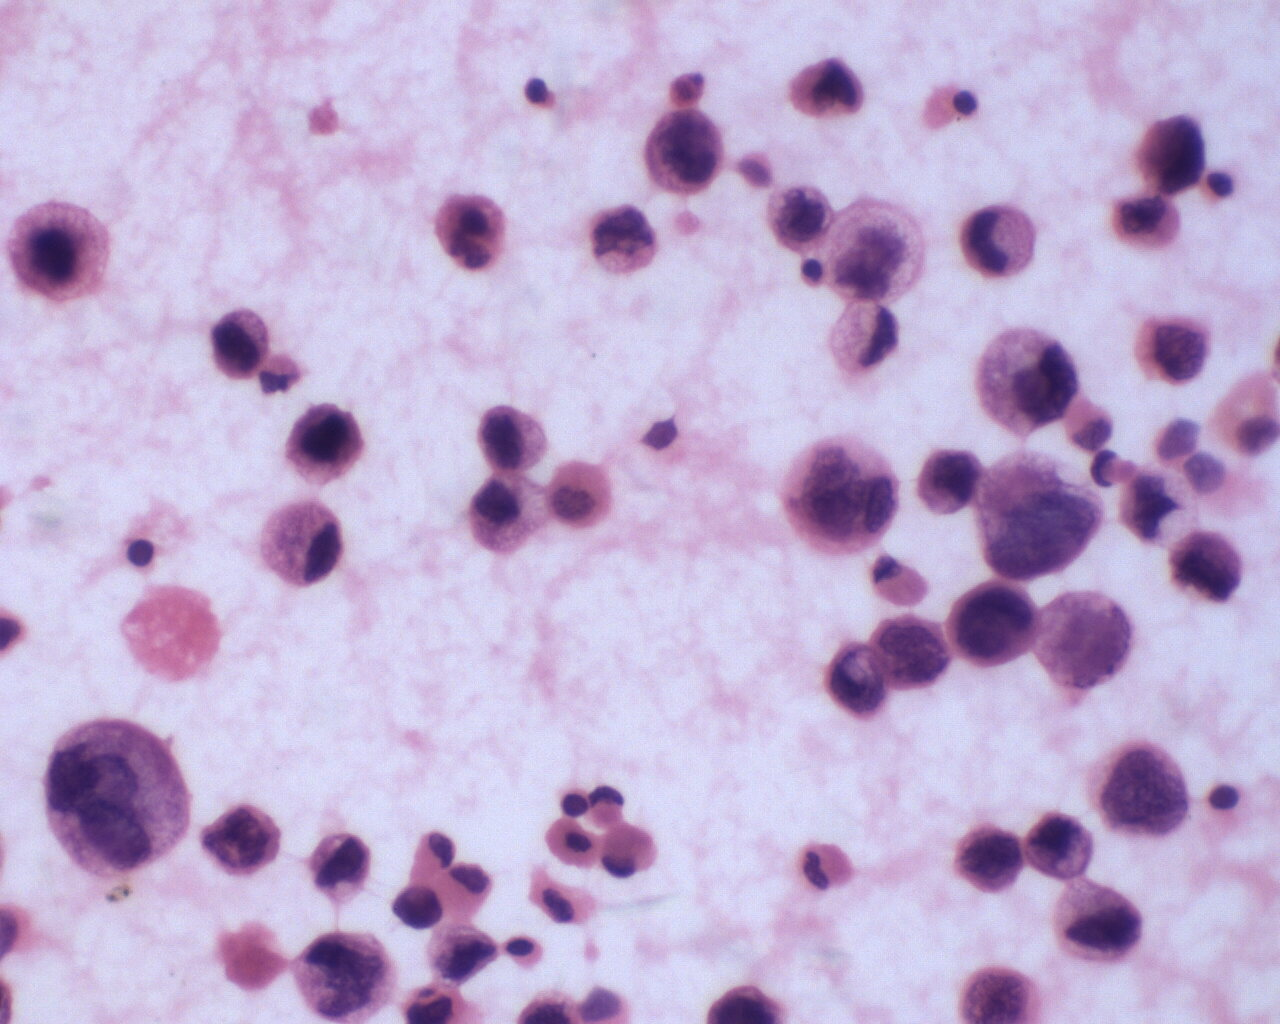ab: (973, 322, 1078, 440), (289, 930, 397, 1023), (951, 572, 1041, 677), (642, 103, 734, 199), (278, 396, 366, 489), (1056, 881, 1144, 970), (197, 801, 286, 883), (1132, 309, 1216, 392), (1016, 802, 1102, 883), (1168, 527, 1246, 610), (471, 404, 559, 478), (1134, 110, 1207, 194), (955, 819, 1032, 897), (305, 827, 378, 906), (590, 196, 661, 278), (204, 303, 272, 385), (915, 448, 985, 518)
histo: (256, 498, 351, 597), (821, 297, 902, 380)
meso: (544, 817, 605, 871)
